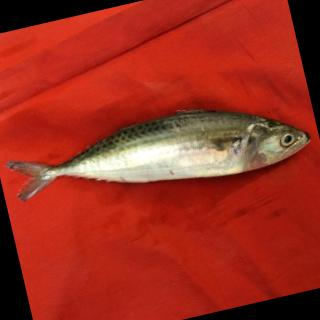Ikan: (1, 58, 320, 244)
